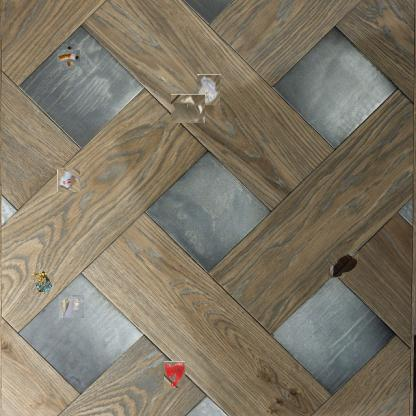dirty: (171, 94, 205, 123), (198, 74, 222, 105), (58, 294, 84, 318), (30, 268, 54, 294), (57, 168, 80, 192), (59, 47, 77, 65)
liquid: (328, 254, 358, 278), (163, 361, 185, 388)
